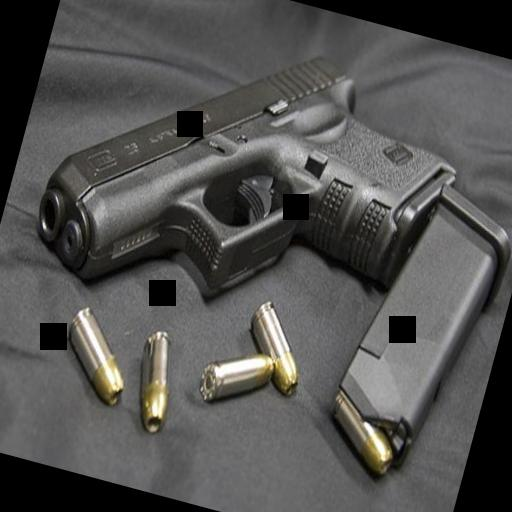Handgun: (13, 0, 477, 362)
